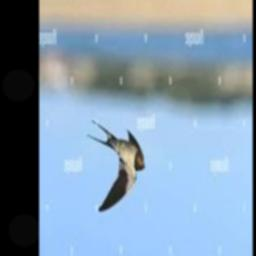Swallow: (88, 122, 144, 213)
